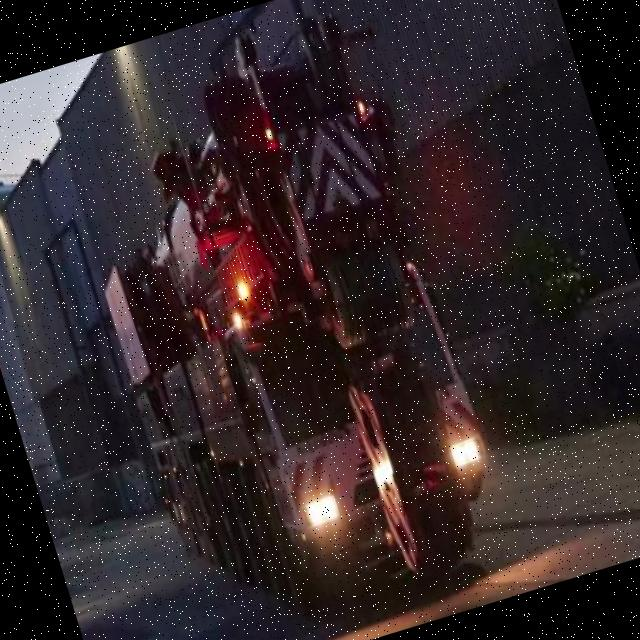Mobile Crane: (49, 25, 512, 634)
